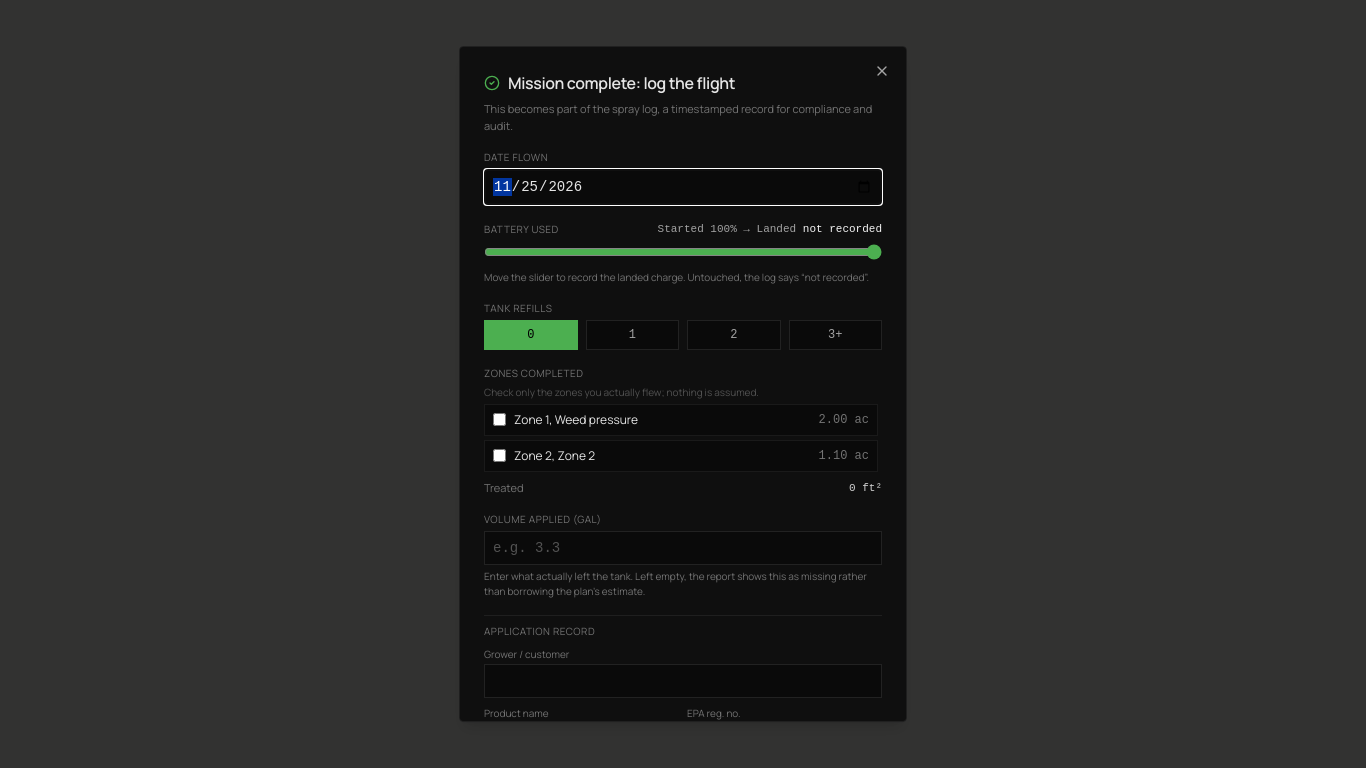
impossible input warns at entry, in the operator's units › a volume far above the plan's estimate is challenged while typing, not at report time
Click the checkbox labelled "Zone 1, Weed pressure 2.00 ac": (500, 420) 493,413 -> 506,426
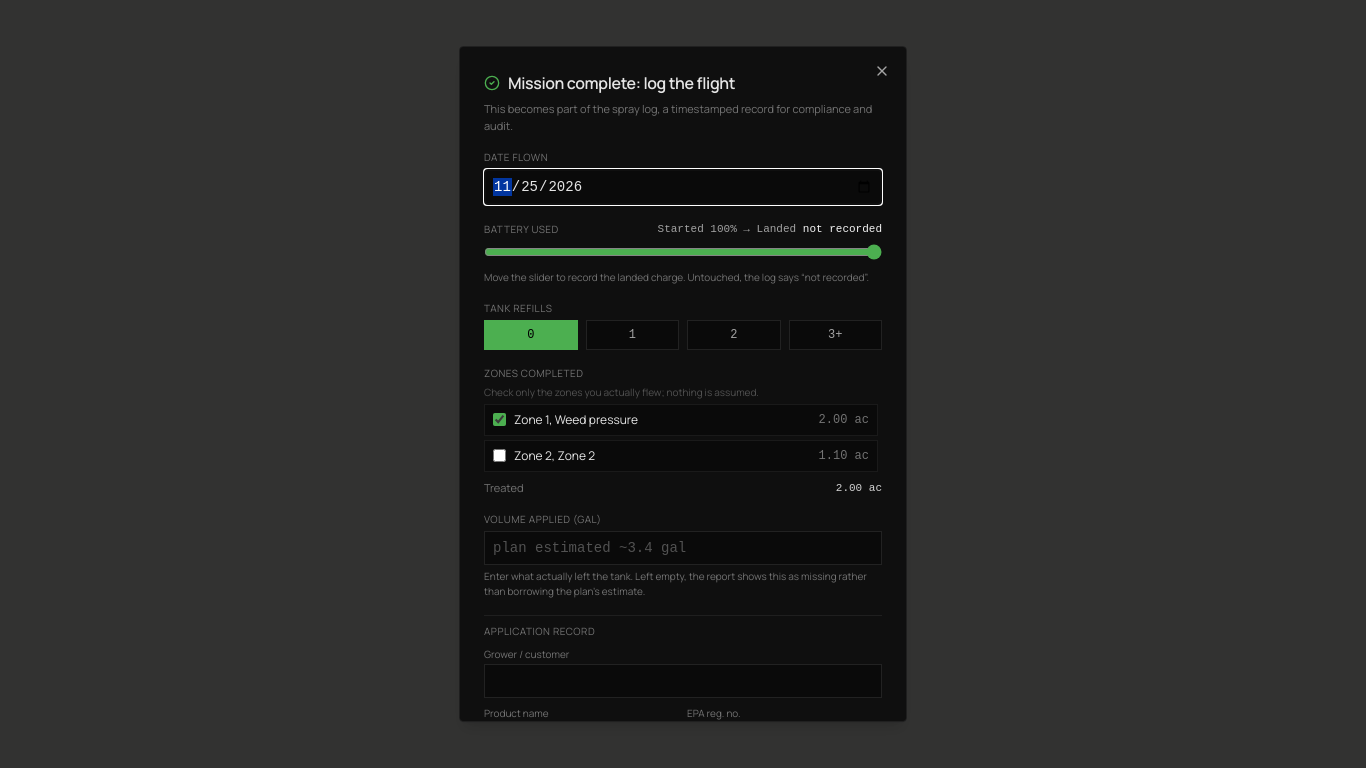
Click the checkbox labelled "Zone 2, Zone 2 1.10 ac": (500, 456) 493,449 -> 506,462
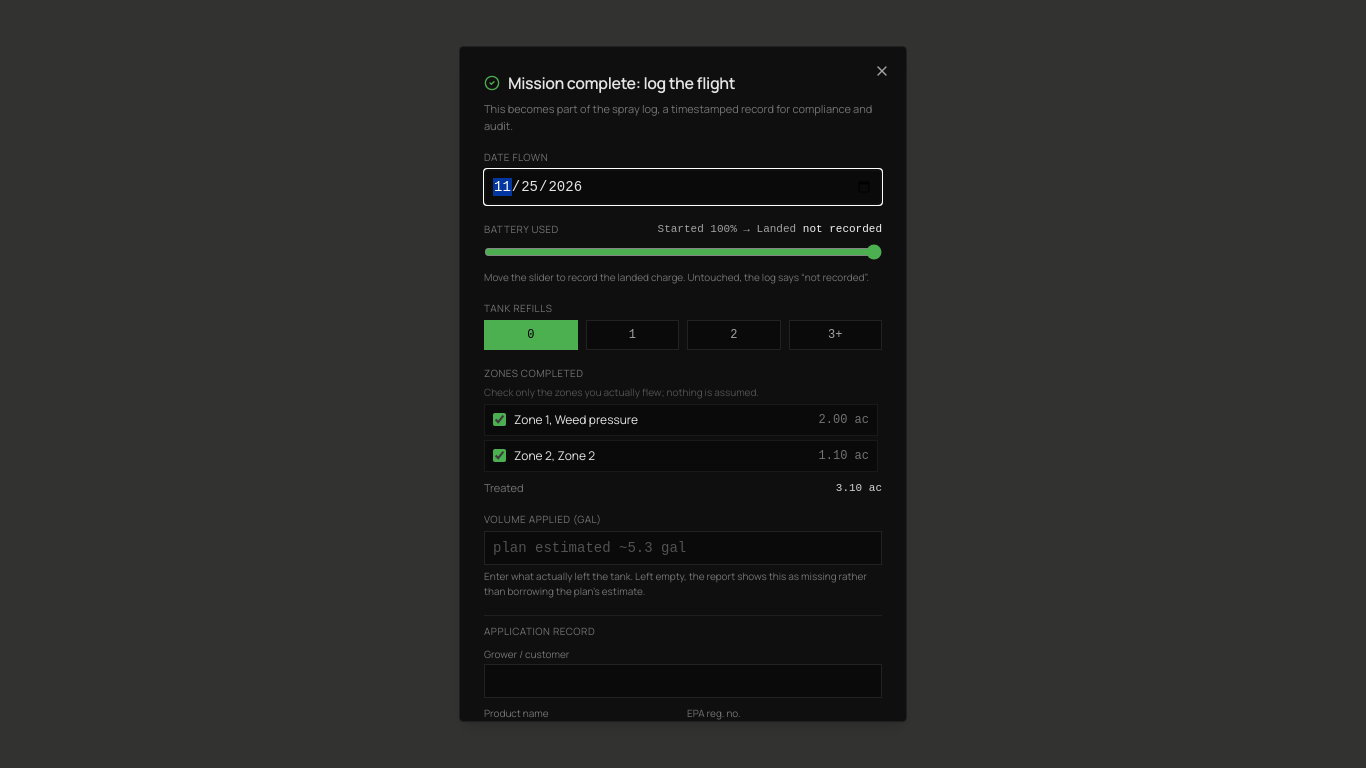
In the number field with placeholder "plan estimated ~5.3 gal": (683, 548) 484,531 -> 882,565, type "40"
(page scrolled)
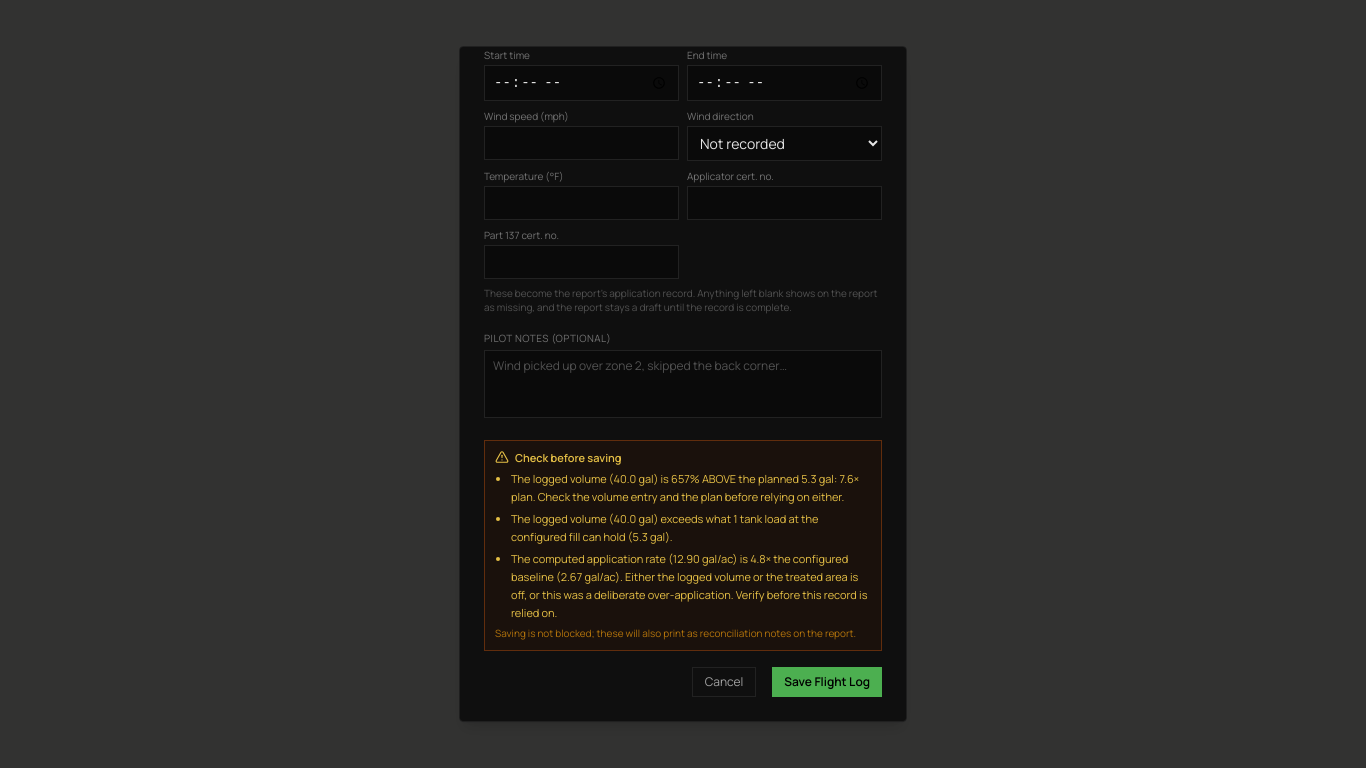
Expected: the text "Check before saving" is shown, 495,450 -> 622,465
Expected: the list item "ABOVE the planned" is shown, 511,472 -> 859,504
Expected: the list item "exceeds what 1 tank load" is shown, 511,511 -> 818,544
